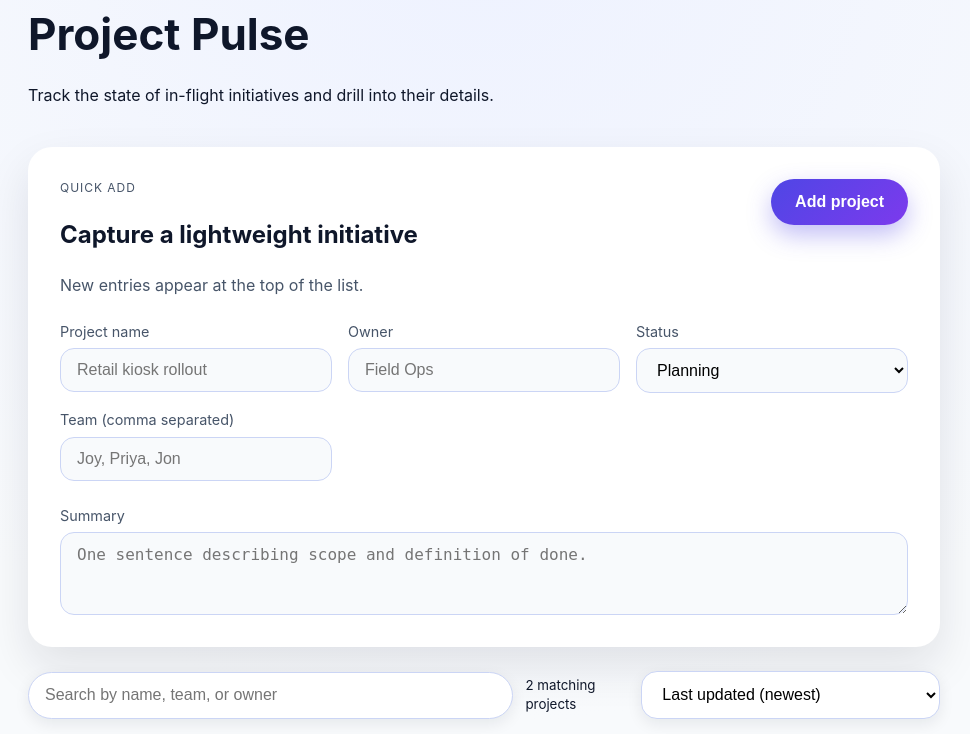
it: ProjectsPage › filters projects by the entered query
Type "alpha" into the search field named "filter projects" at (271, 696), box [28,672,513,719]
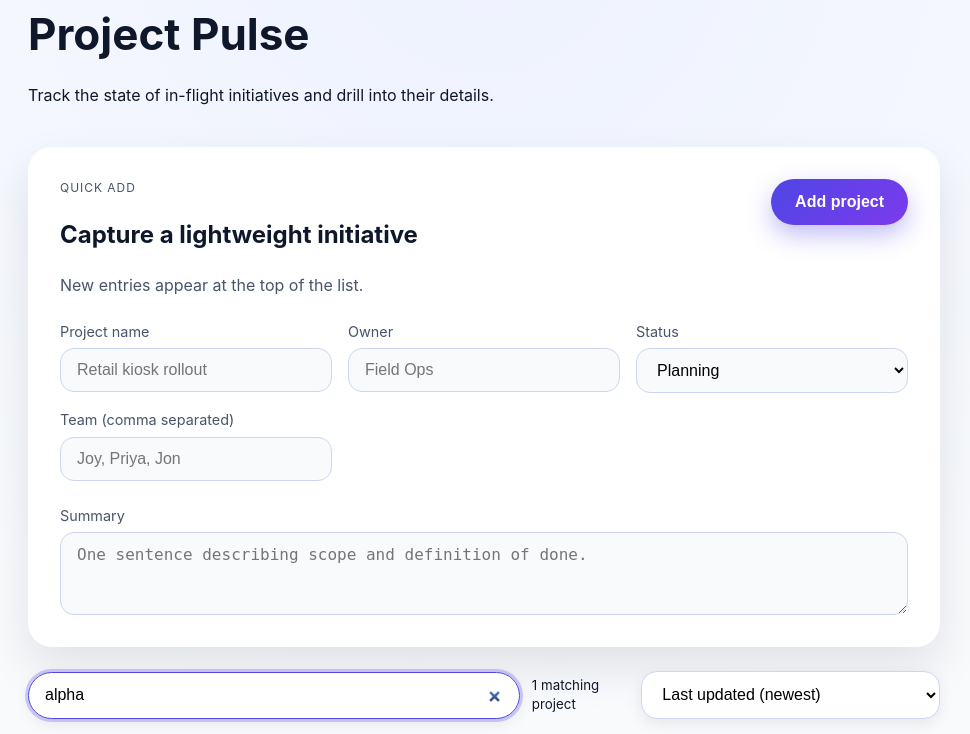
expect the text "1 matching project" is shown: met, box [532,676,599,712]
